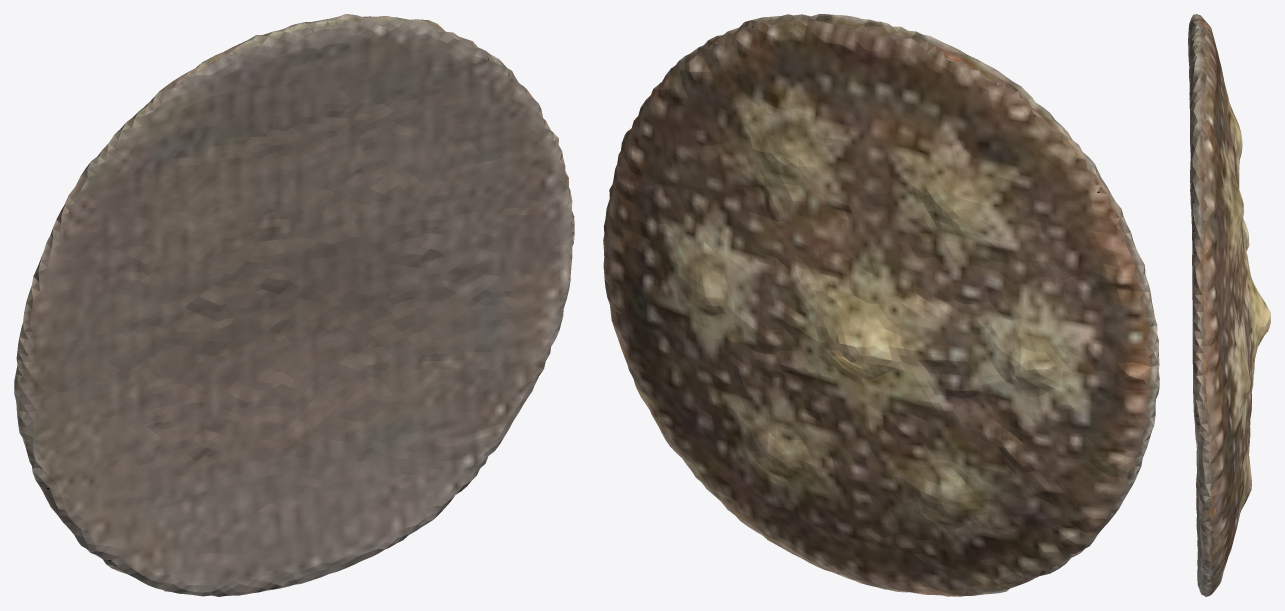
File: artefak_31781_low.glb
3 renders of one model, left to right at view 1: azimuth 30°, elevation 25°; view 2: azimuth 150°, elevation 25°; view 3: azimuth 270°, elevation 25°, orthographic. The views are drawn at different scales.
Parts seen in each view (by area): view 1: world; view 2: world; view 3: world.
Part boxes in pixels (left/top/right/bottom): world: left=14, top=14, right=574, bottom=596; world: left=603, top=14, right=1159, bottom=596; world: left=1188, top=14, right=1270, bottom=596.
Size of the model in its own units: 0.9764 by 0.944 by 0.1363.
1 material, 1 textured.
